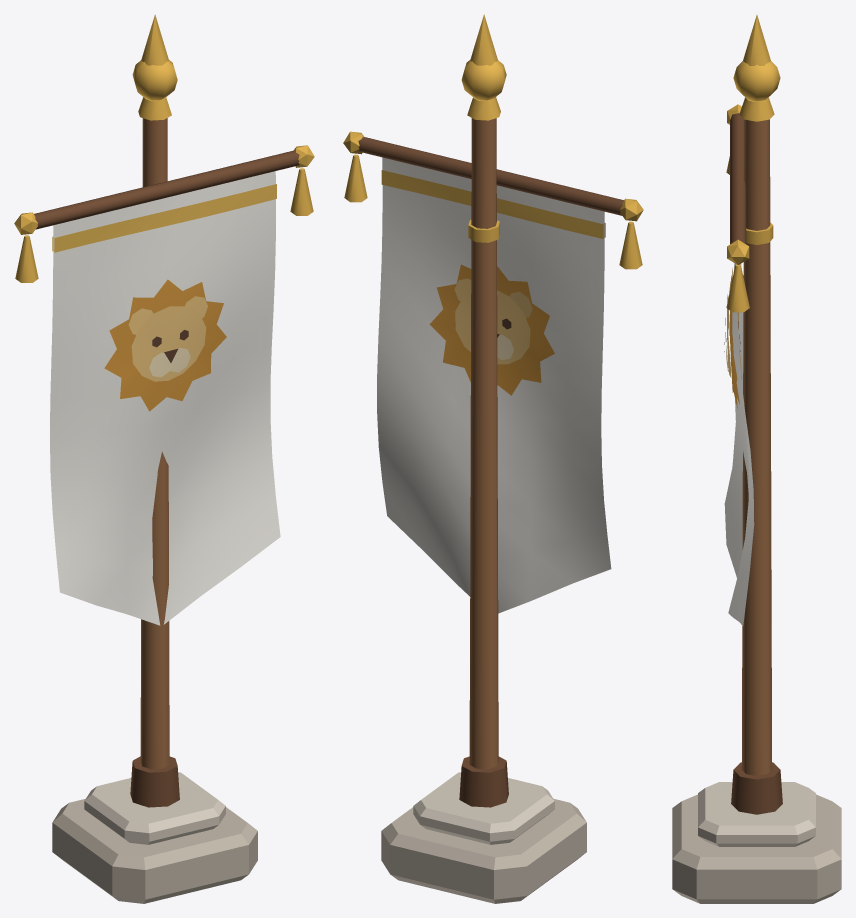
File: standing_banner.glb
3 views of the same model, side by side, from view 1: azimuth 30°, elevation 25°; view 2: azimuth 150°, elevation 25°; view 3: azimuth 270°, elevation 25° (orthographic).
Visible parts, largest first — view 1: banner_fabric, base_stone, pole, base_cap, lion_mane_front, crossbar, hem_trim_front, lion_face_front, pole_collar, finial_ball, finial_spike, tassel_r (+2 smaller); view 2: banner_fabric, pole, base_stone, base_cap, lion_mane_back, crossbar, hem_trim_back, lion_face_back, pole_collar, finial_ball, finial_spike, tassel_l (+2 smaller); view 3: pole, base_stone, base_cap, banner_fabric, pole_collar, crossbar, finial_ball, finial_spike, tassel_r, finial_neck, crossbar_cap_r, pole_band (+1 smaller).
Part boxes in pixels (<box>): banner_fabric: <box>50,171,280,625</box>; base_stone: <box>52,798,257,903</box>; pole: <box>140,118,169,769</box>; base_cap: <box>84,772,225,844</box>; lion_mane_front: <box>104,279,226,411</box>; crossbar: <box>34,150,299,229</box>; hem_trim_front: <box>54,184,276,252</box>; lion_face_front: <box>131,306,206,381</box>; pole_collar: <box>130,756,179,807</box>; finial_ball: <box>132,60,177,100</box>; finial_spike: <box>141,14,168,65</box>; tassel_r: <box>290,168,313,215</box>; banner_fabric: <box>377,157,611,613</box>; pole: <box>469,118,498,769</box>; base_stone: <box>381,798,586,903</box>; base_cap: <box>413,772,554,844</box>; lion_mane_back: <box>429,264,554,395</box>; crossbar: <box>358,137,623,215</box>; hem_trim_back: <box>381,170,603,238</box>; lion_face_back: <box>455,290,530,364</box>; pole_collar: <box>459,756,508,807</box>; finial_ball: <box>461,60,506,100</box>; finial_spike: <box>470,14,497,65</box>; tassel_l: <box>619,221,642,269</box>; pole: <box>741,119,772,775</box>; base_stone: <box>672,794,841,903</box>; base_cap: <box>698,782,815,846</box>; banner_fabric: <box>724,263,754,625</box>; pole_collar: <box>731,762,782,814</box>; crossbar: <box>730,113,746,244</box>; finial_ball: <box>733,61,780,101</box>; finial_spike: <box>743,15,770,65</box>; tassel_r: <box>726,264,749,312</box>; finial_neck: <box>739,97,774,121</box>; crossbar_cap_r: <box>727,239,749,264</box>; pole_band: <box>746,222,773,244</box>.
Size of the model in its own units: 1.45 by 4.02 by 0.72.
